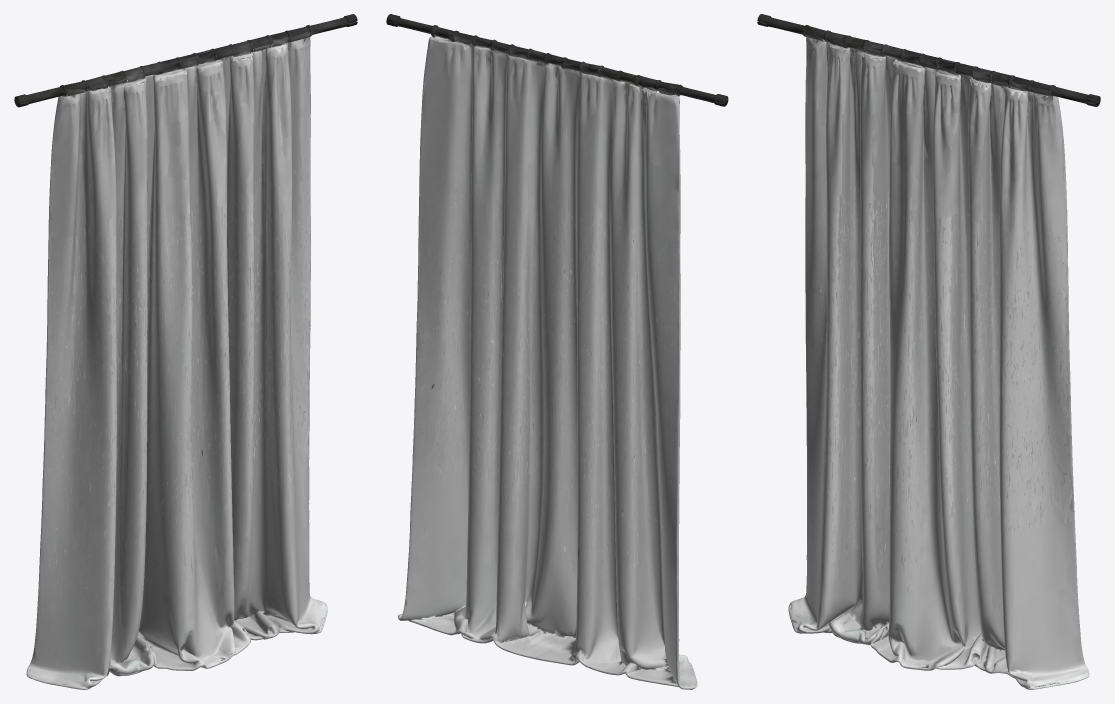
Rendered from rideau.glb.
The picture shows the model from 3 angles, left to right: view 1: azimuth 30°, elevation 25°; view 2: azimuth 150°, elevation 25°; view 3: azimuth 330°, elevation 25°; orthographic projection.
Visible parts, largest first — view 1: tripo_node_68e500a4-8edf-4754-a7e8-a89ea3a9d0a7; view 2: tripo_node_68e500a4-8edf-4754-a7e8-a89ea3a9d0a7; view 3: tripo_node_68e500a4-8edf-4754-a7e8-a89ea3a9d0a7.
Part boxes in pixels (x1,y1,x2,y2): tripo_node_68e500a4-8edf-4754-a7e8-a89ea3a9d0a7: (14,14,357,689); tripo_node_68e500a4-8edf-4754-a7e8-a89ea3a9d0a7: (386,14,728,689); tripo_node_68e500a4-8edf-4754-a7e8-a89ea3a9d0a7: (757,14,1100,689).
Bounding box in the file's own units: 0.5841 × 0.9809 × 0.1396.
Materials: 1 (1 with a texture image).
